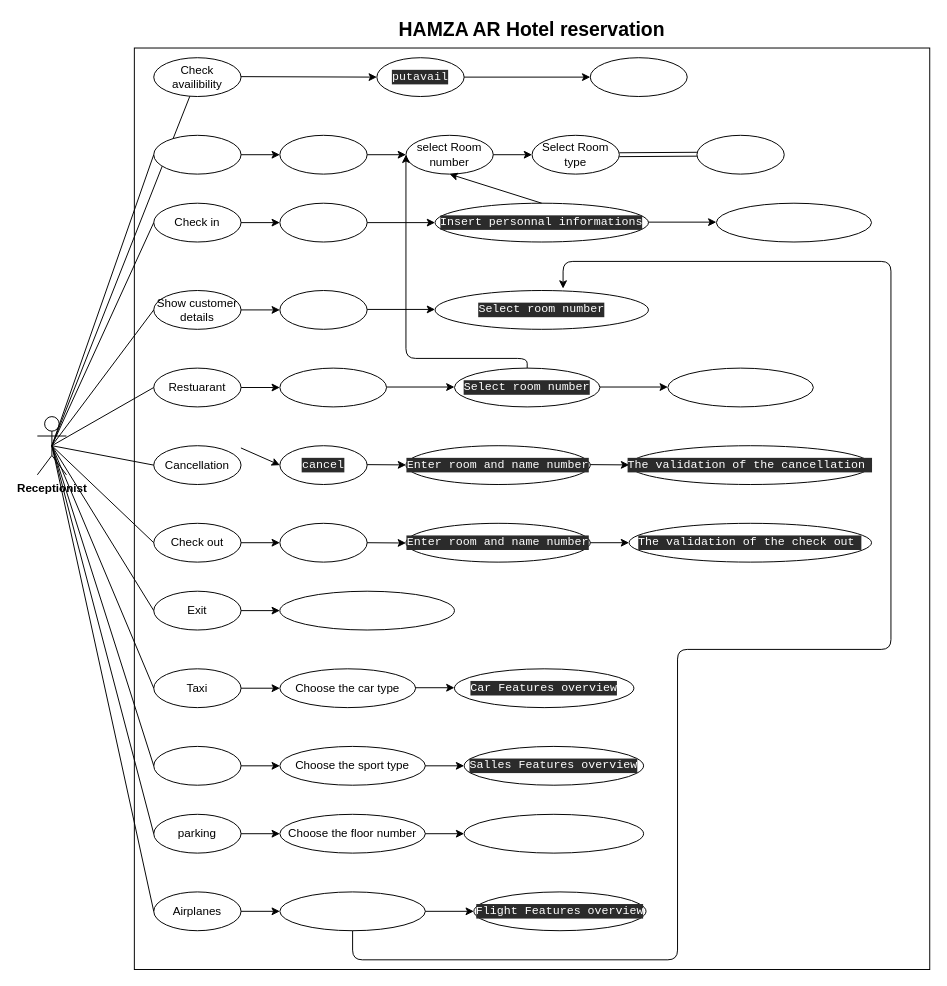
The diagram is 947 pixels wide and 986 high, and some of its shapes have lost their labels. The box of each missing label's shape, as (x1, y1, x2, y2) in pixels:
allocate: (279, 202, 367, 242)
check in is validated: (715, 202, 872, 242)
Choose the destination: (279, 891, 425, 931)
deallocate: (279, 522, 367, 562)
End of hamza ar hotel process: (279, 590, 454, 630)
Enter costumer name: (667, 367, 813, 407)
Features: (279, 134, 367, 174)
List available rooms: (696, 134, 784, 174)
Parking Features overview: (463, 813, 644, 853)
putcust: (279, 290, 367, 329)
Room reservation: (153, 134, 241, 174)
Rooms overview: (589, 57, 687, 97)
salles: (153, 745, 241, 785)
select food code: (279, 367, 387, 407)
